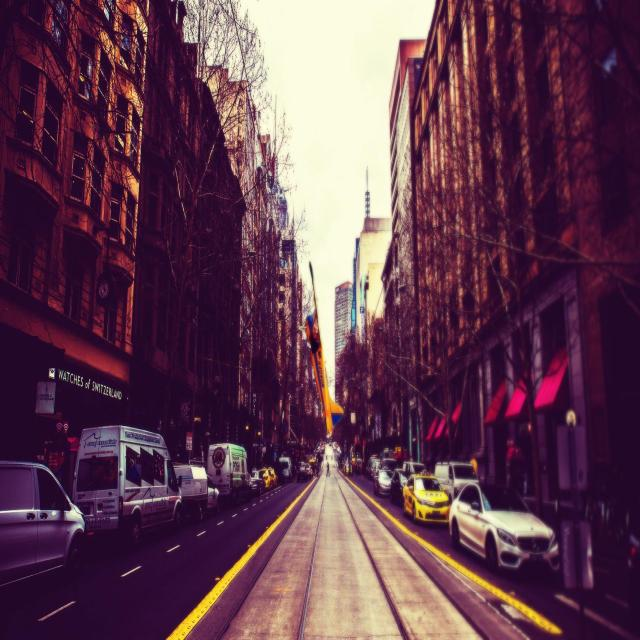airplane: (297, 261, 344, 439)
